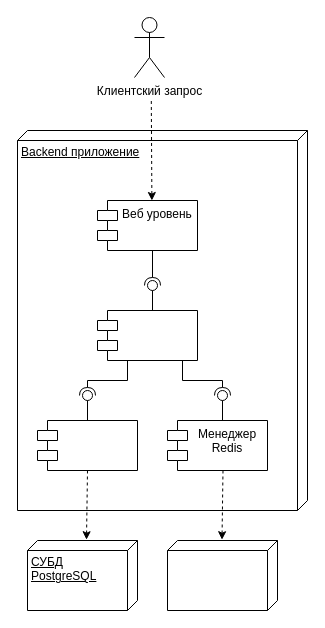
Some shapes in this 325 by 628 pixel diagram are drawn without their labels. Each missing label, with the centre of its shape:
"Репозитории" goes at [87,445].
"Сервисный уровень" goes at [147,335].
"СУБД Redis" goes at [222,575].
